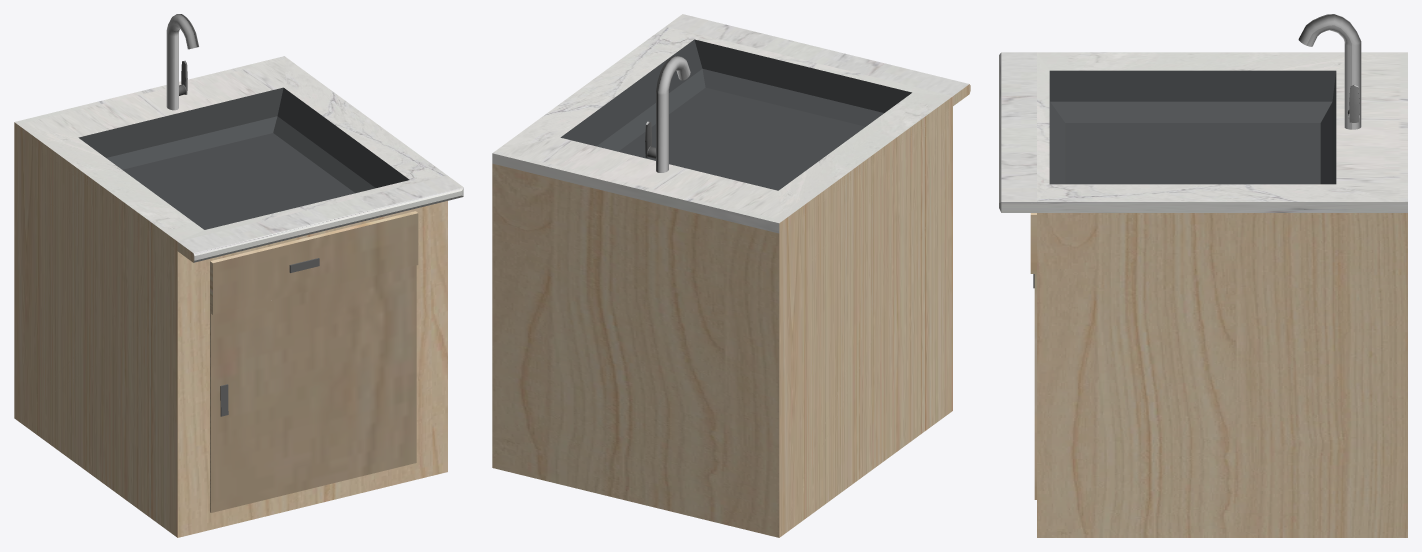
File: Lavaplatos.fbx
3 renders of one model, left to right at view 1: azimuth 30°, elevation 25°; view 2: azimuth 150°, elevation 25°; view 3: azimuth 270°, elevation 25°, orthographic. The views are drawn at different scales.
Parts seen in each view (by area): view 1: Cube.005, Cylinder.002; view 2: Cube.005, Cylinder.002; view 3: Cube.005, Cylinder.002.
Part boxes in pixels (<box>): Cube.005: <box>14,56,463,537</box>; Cylinder.002: <box>166,14,198,110</box>; Cube.005: <box>492,14,970,537</box>; Cylinder.002: <box>645,56,690,172</box>; Cube.005: <box>999,52,1407,537</box>; Cylinder.002: <box>1298,14,1361,129</box>.
Bounding box in the file's own units: 133 × 186 × 154.
Materials: 7 (4 with a texture image).
